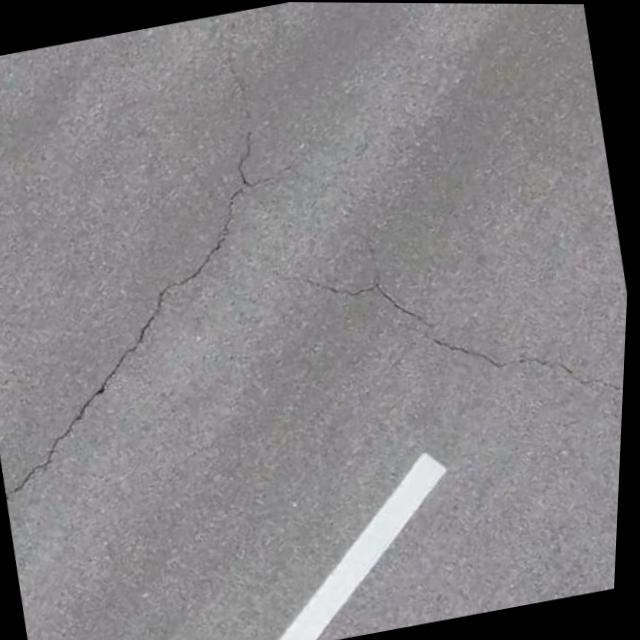Crack: (381, 243, 632, 475), (104, 26, 298, 321), (0, 310, 184, 516)
